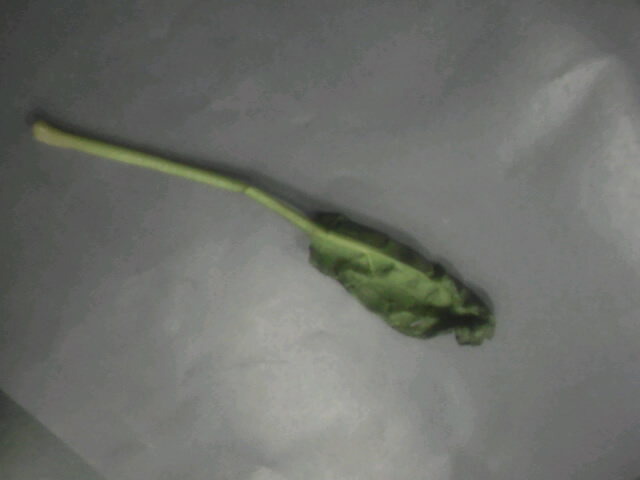yellow: (203, 159, 547, 362)
